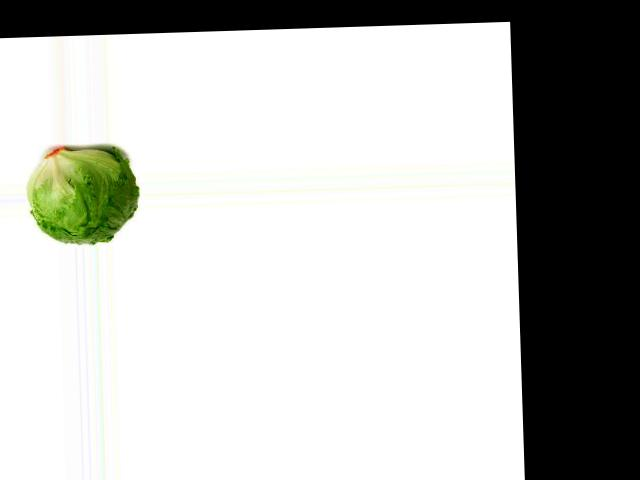lettuce: (32, 147, 139, 246)
